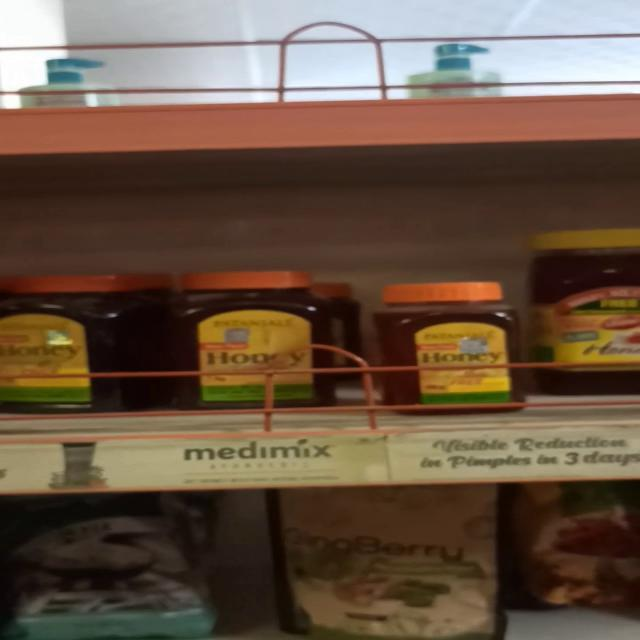Patanjali Honey: (178, 268, 326, 407), (371, 284, 518, 414)
